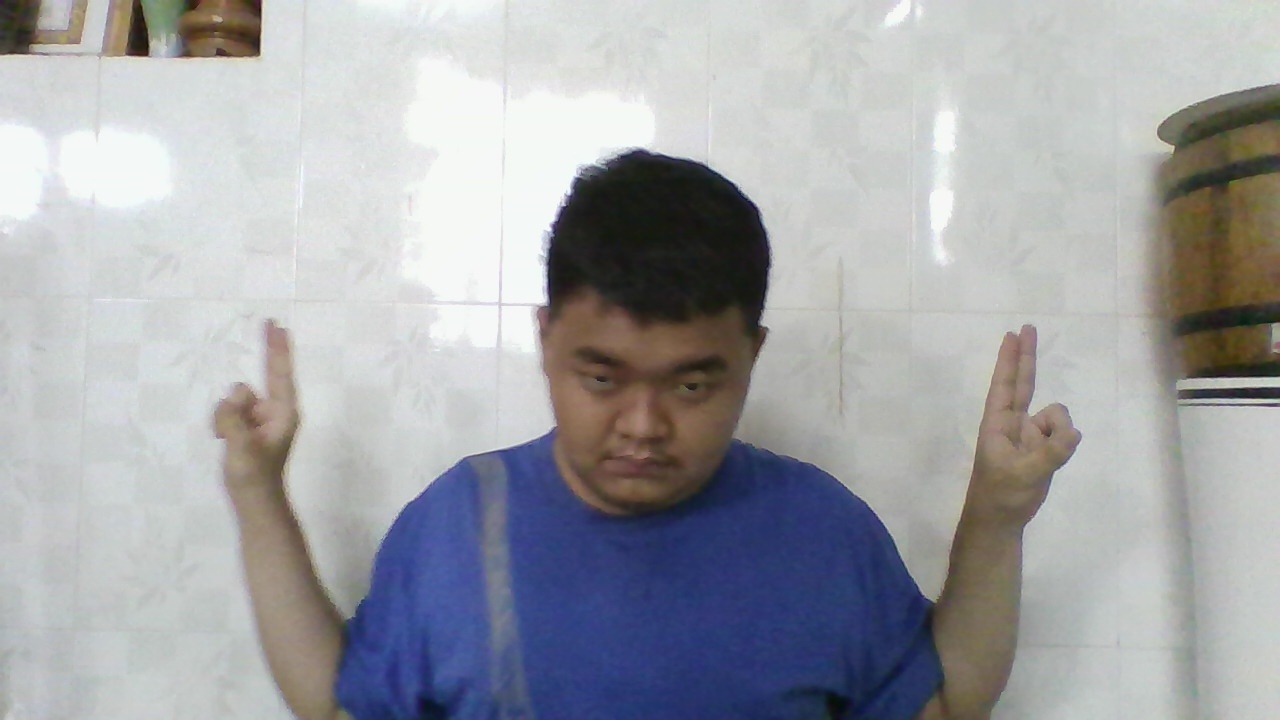U: (980, 314, 1087, 538), (204, 313, 299, 497)
